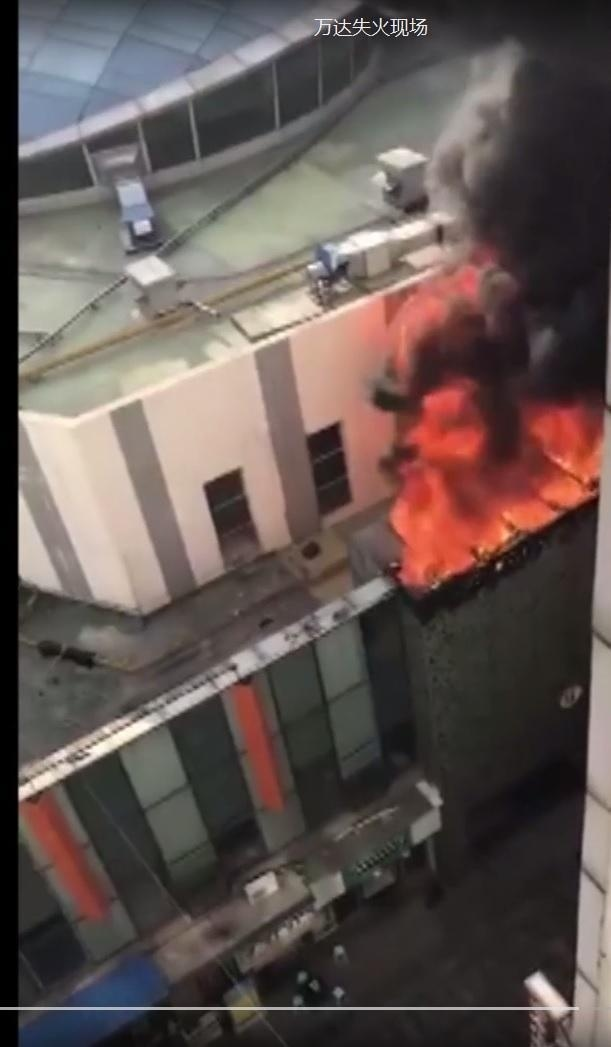fire: (382, 284, 597, 583)
